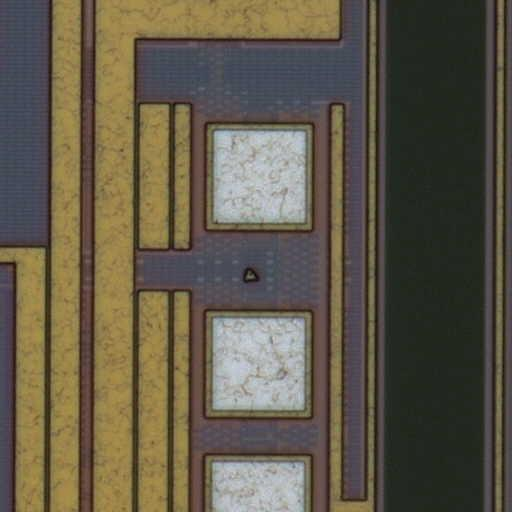BLOCK ETCH: (239, 265, 262, 287)
